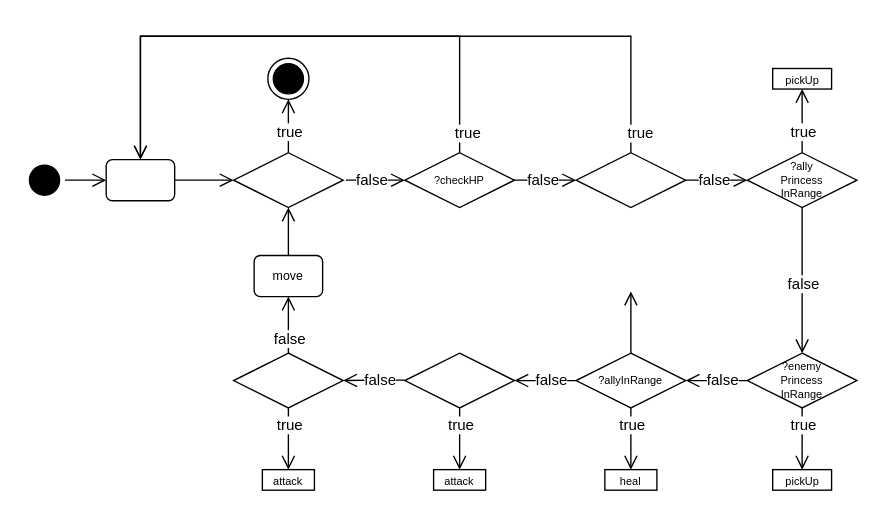
This 881x515 diagram has some shape labels left out. The shapes that lost their labels are listed below. From the top down, each one's centre as x and y in pixels, then its label:
At pixel 140 179: "spawn".
At pixel 287 179: "?checkEnd".
At pixel 630 179: "?checkStrEffect".
At pixel 287 380: "?enemyGate InRange".
At pixel 458 380: "?enemyInRange".
